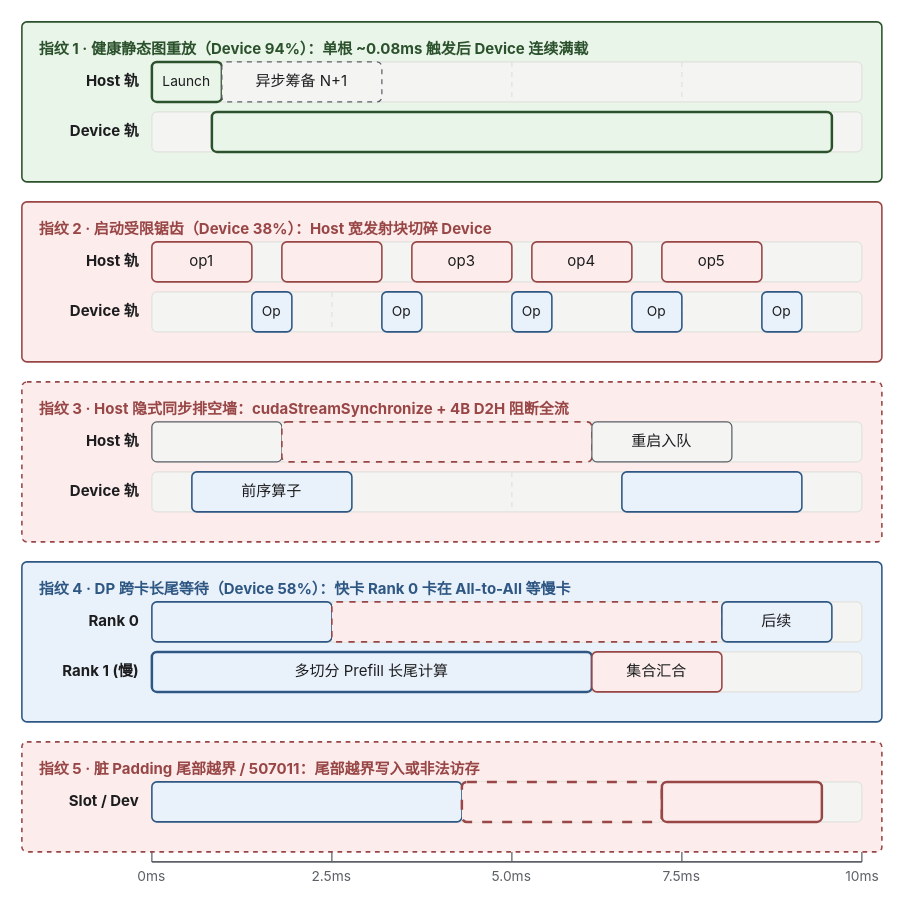
This 905x914 diagram has some shape labels left out. The shapes that lost their labels are listed below. From the top down, each one's centre as x and y in pixels, then its label:
At pixel 521 131: "静态图连续密集算子流（几乎零气泡）".
At pixel 331 261: "op2".
At pixel 216 441: "入队".
At pixel 436 441: "StreamSynchronize (.item() / 4B D2H)".
At pixel 711 491: "恢复执行".
At pixel 241 621: "算完".
At pixel 526 621: "All-to-All 通信空等长块".
At pixel 306 801: "活跃请求 B=2".
At pixel 561 801: "脏槽越界写入 (未填 -1)".
At pixel 741 801: "507011 UAF".
